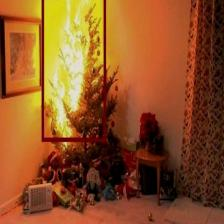fire: (41, 0, 105, 140)
